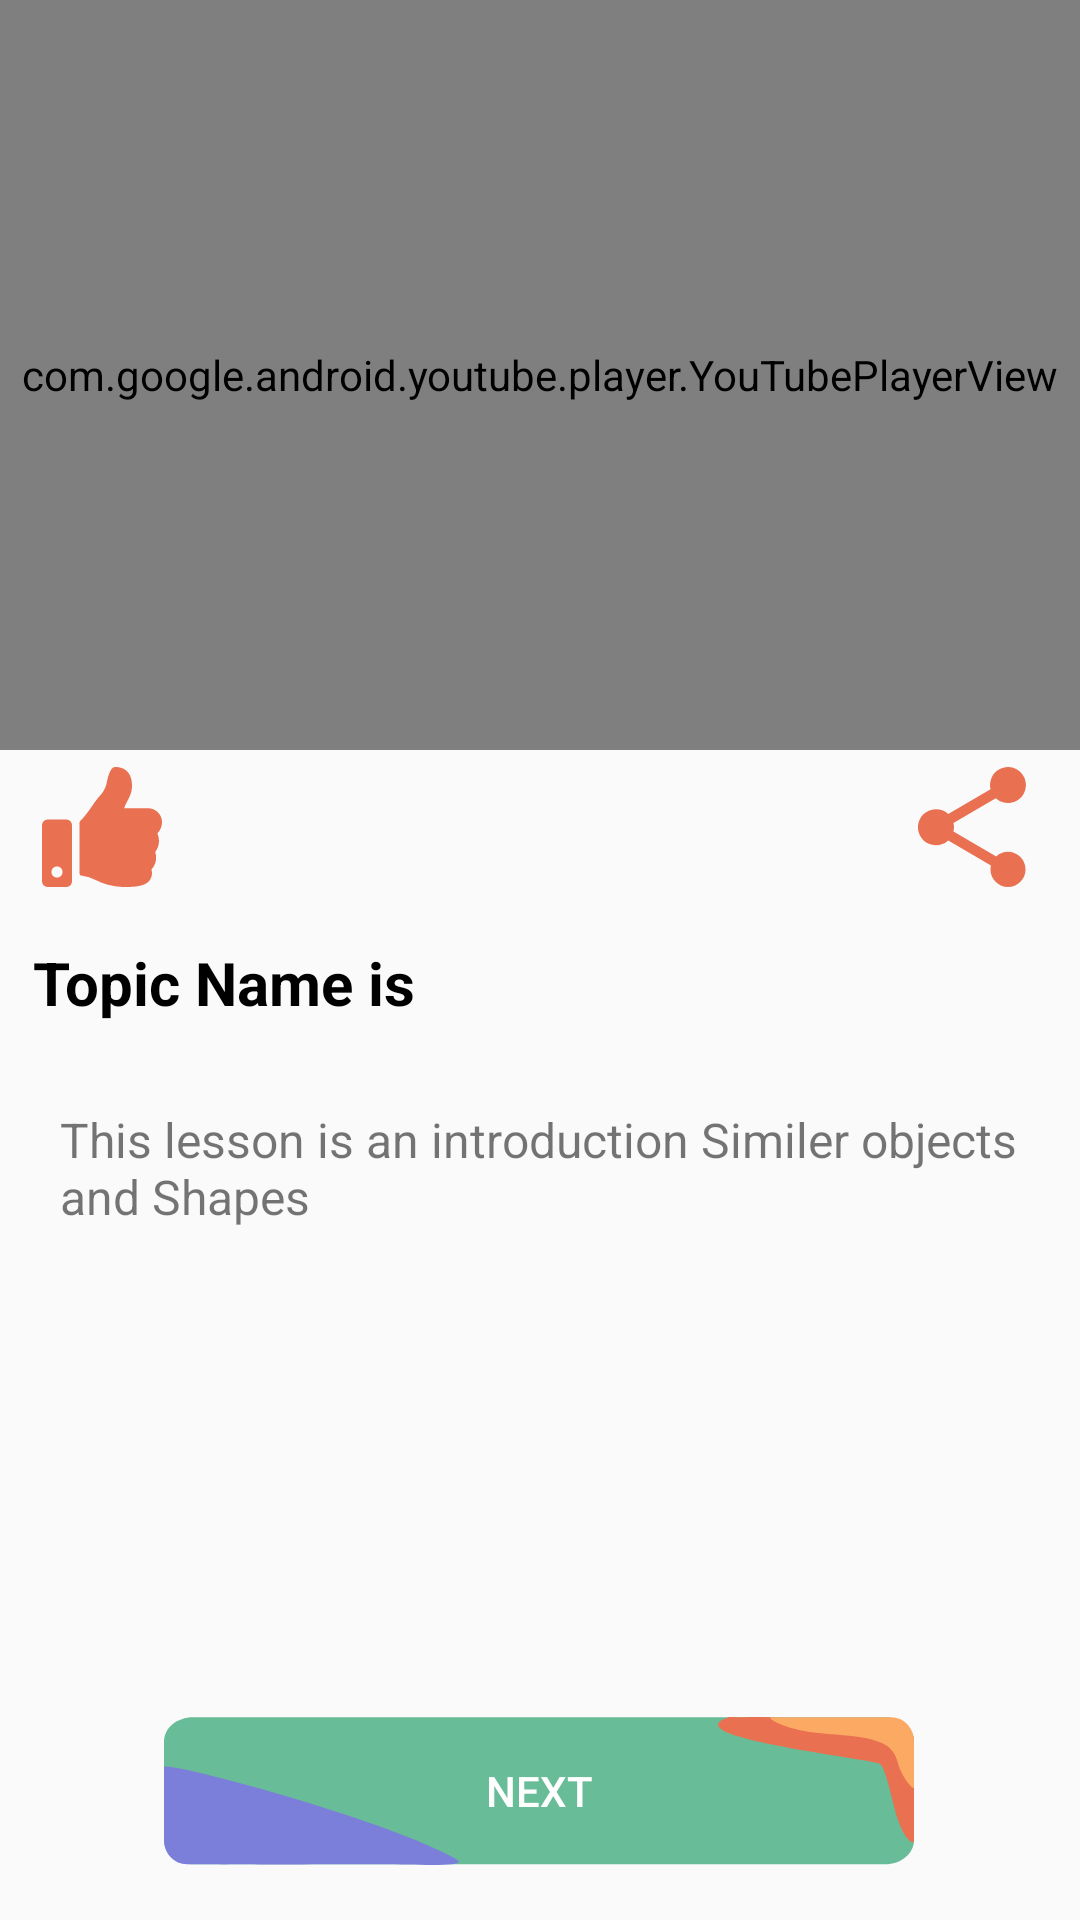

Where to tap for icons on this 1080 x 1920 app screen, as point (x, y):
vlike: point (102, 827)
vshare: point (972, 827)
